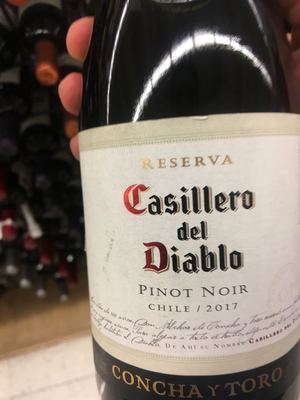casillero del diablo pinot noir: (67, 4, 300, 397)
